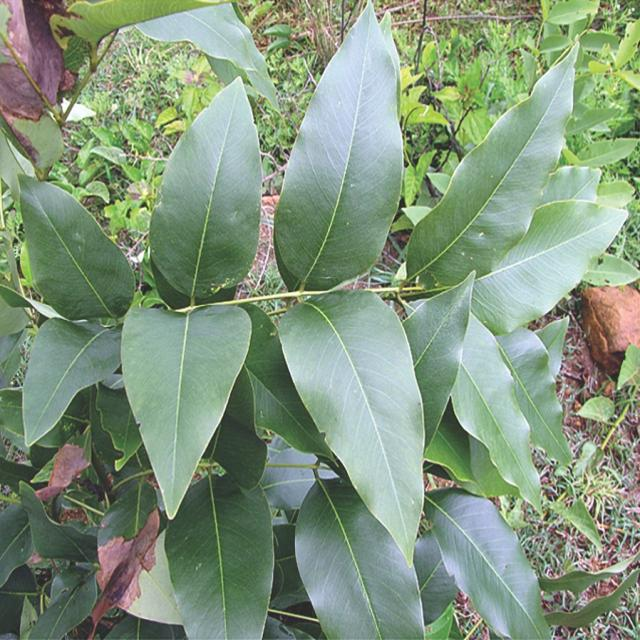Amaltas: (97, 94, 608, 628), (41, 85, 548, 550)
